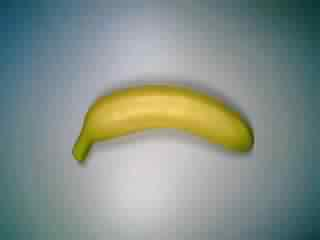banana: (70, 82, 258, 173)
